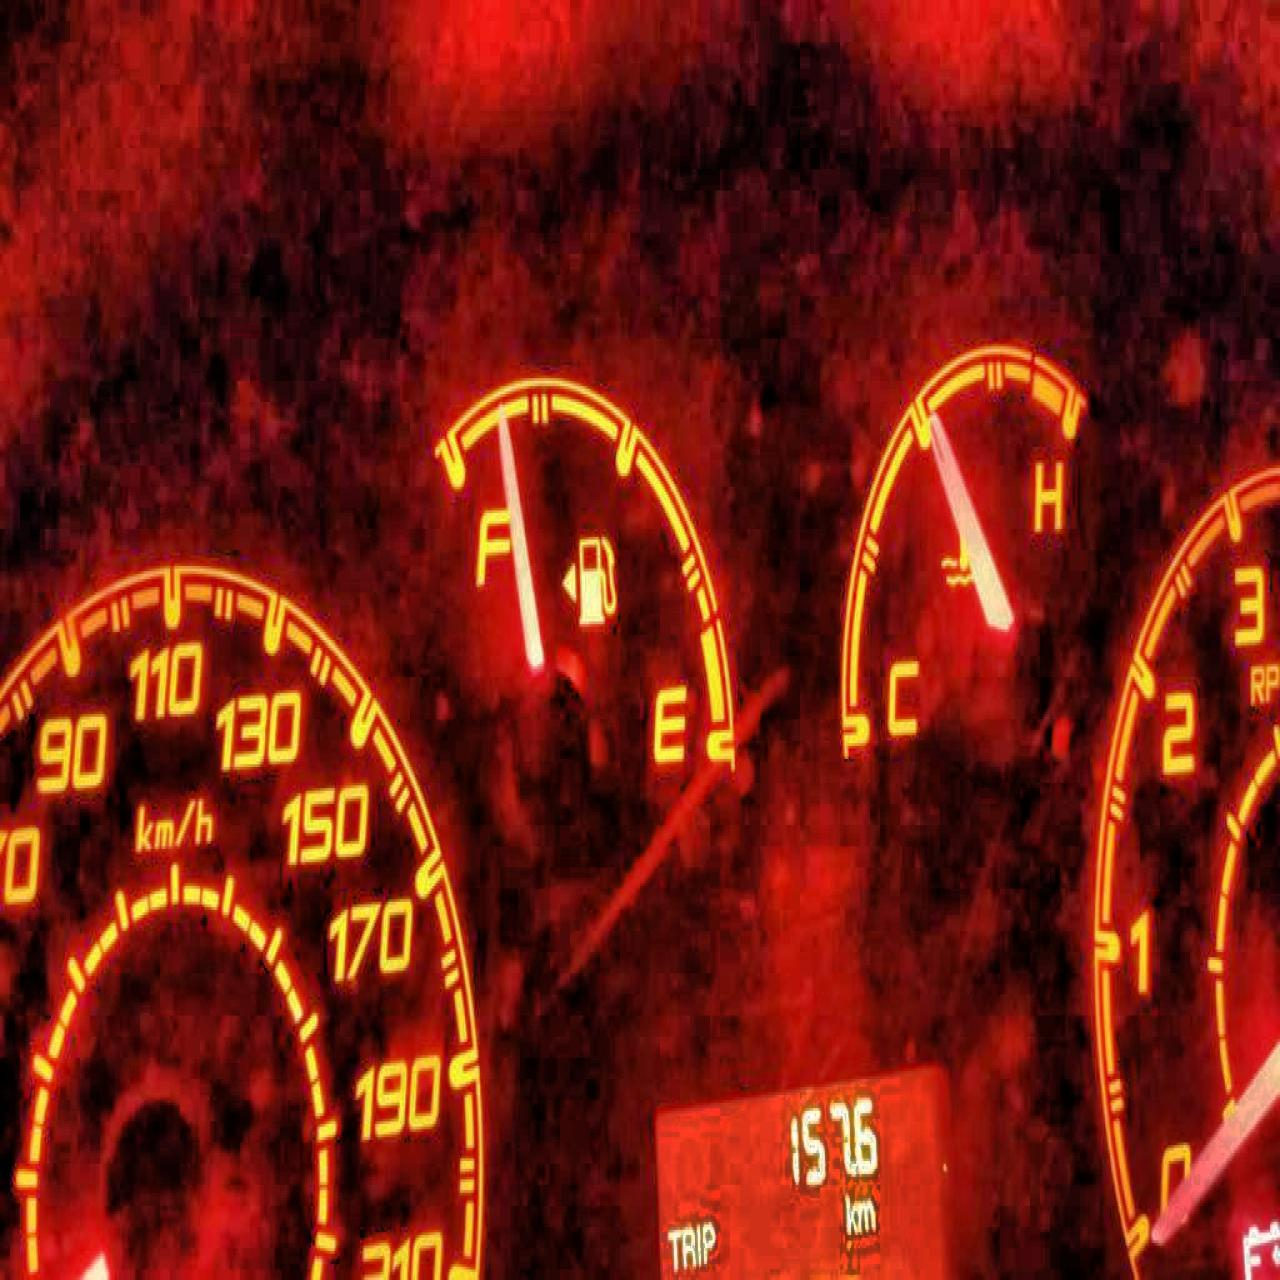-: (847, 1156, 858, 1183)
1: (788, 1103, 797, 1190)
5: (799, 1103, 825, 1185)
6: (853, 1087, 878, 1175)
7: (828, 1095, 850, 1175)
X: (702, 1217, 717, 1265), (680, 1221, 695, 1269), (856, 1196, 876, 1232), (665, 1225, 680, 1269), (843, 1193, 856, 1235), (695, 1217, 701, 1266)
odometer: (641, 1048, 958, 1278)
